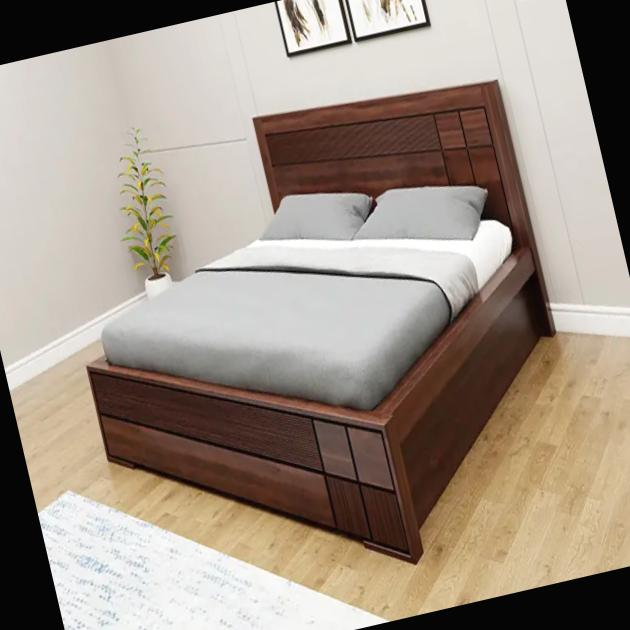bed: (57, 14, 630, 595)
